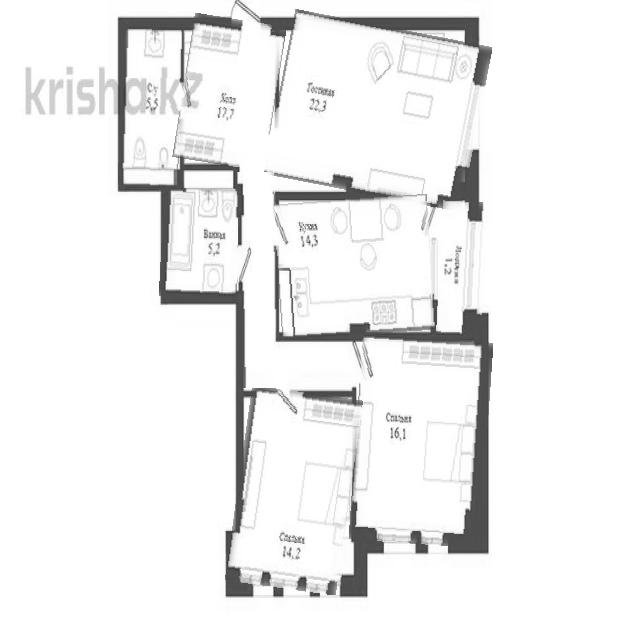balcony: (437, 201, 486, 334)
bathroom: (120, 25, 182, 187), (161, 188, 241, 299)
hallway: (178, 17, 281, 168), (238, 172, 277, 388)
kitchen: (276, 197, 434, 338)
living_room: (270, 18, 485, 204), (352, 336, 489, 546), (232, 389, 356, 592)
